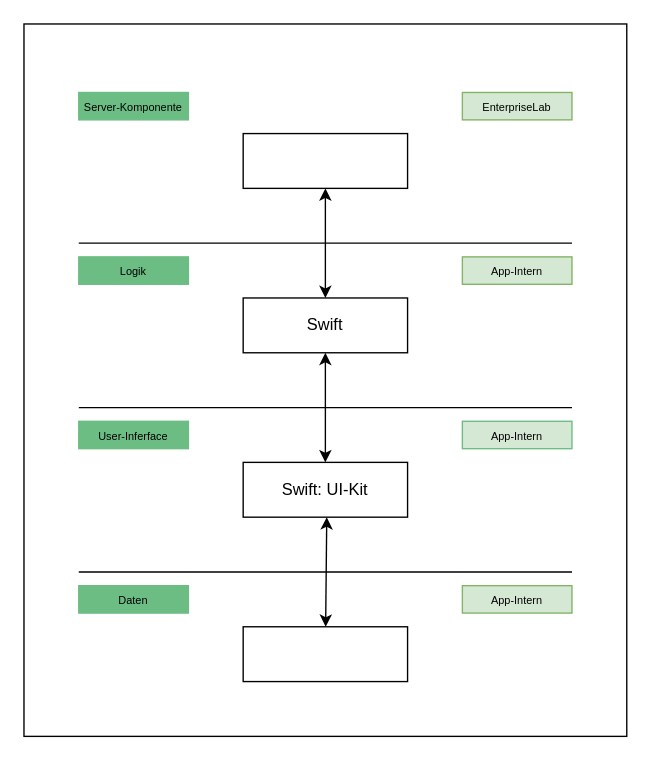
This 651x760 diagram has some shape labels left out. The shapes that lost their labels are listed below. From the top down, each one's box as (x1, y1, x2, y2) in pixels, then its label:
(242, 132, 408, 188): Webserver
(242, 625, 408, 682): Swift: Core-Data
